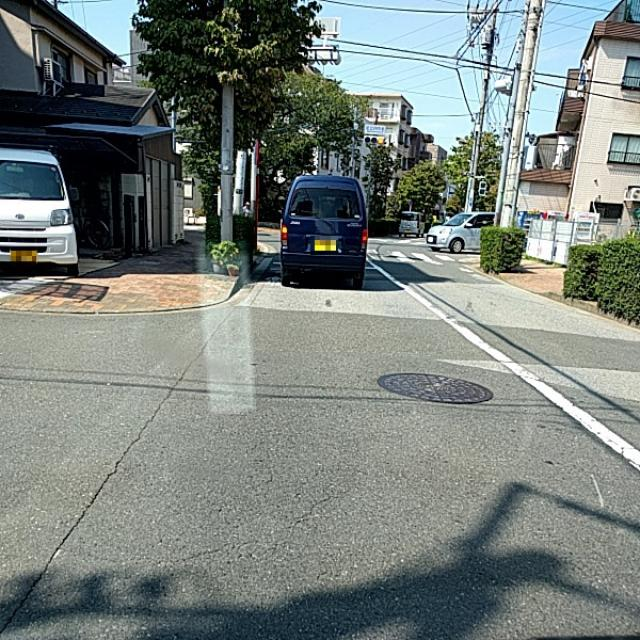pothole: (94, 397, 167, 520)
